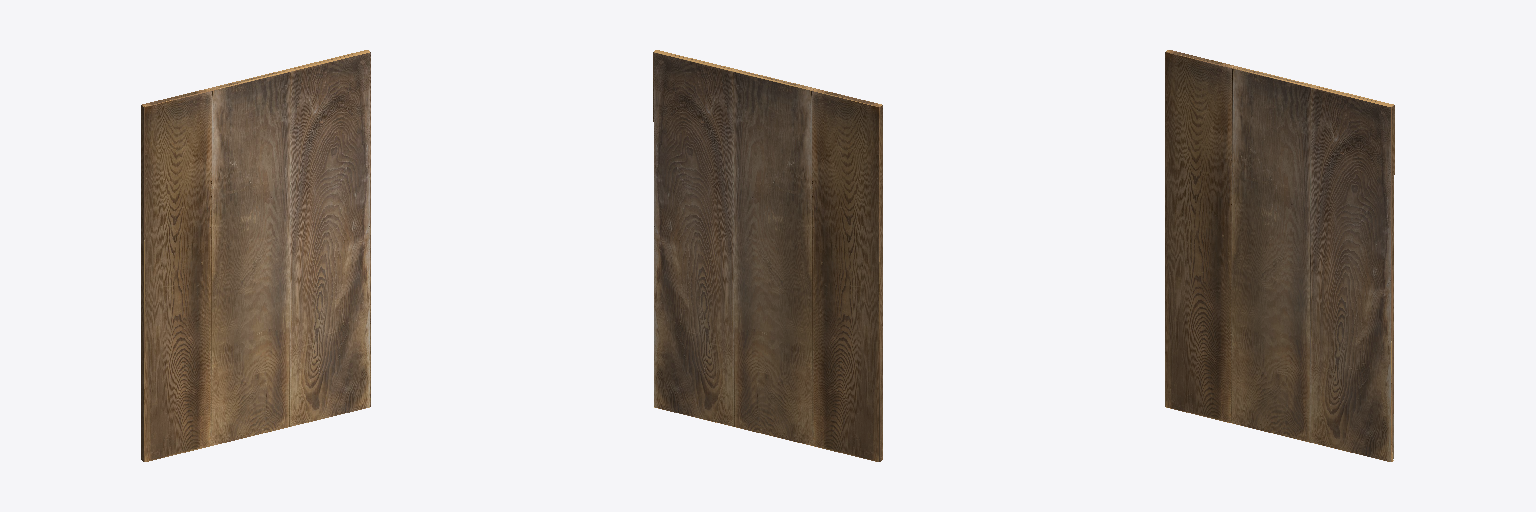
3 renders of one model, left to right at view 1: azimuth 30°, elevation 25°; view 2: azimuth 150°, elevation 25°; view 3: azimuth 330°, elevation 25°, orthographic.
Parts seen in each view (by area): view 1: Object_0.001; view 2: Object_0.001; view 3: Object_0.001.
Boxes of the visible parts, x1=… form: Object_0.001: x1=141, y1=50, x2=370, y2=461; Object_0.001: x1=653, y1=50, x2=882, y2=461; Object_0.001: x1=1165, y1=50, x2=1394, y2=461.
Bounding box in the file's own units: 0.8 × 1.2 × 0.021.
1 materials, 1 textured.